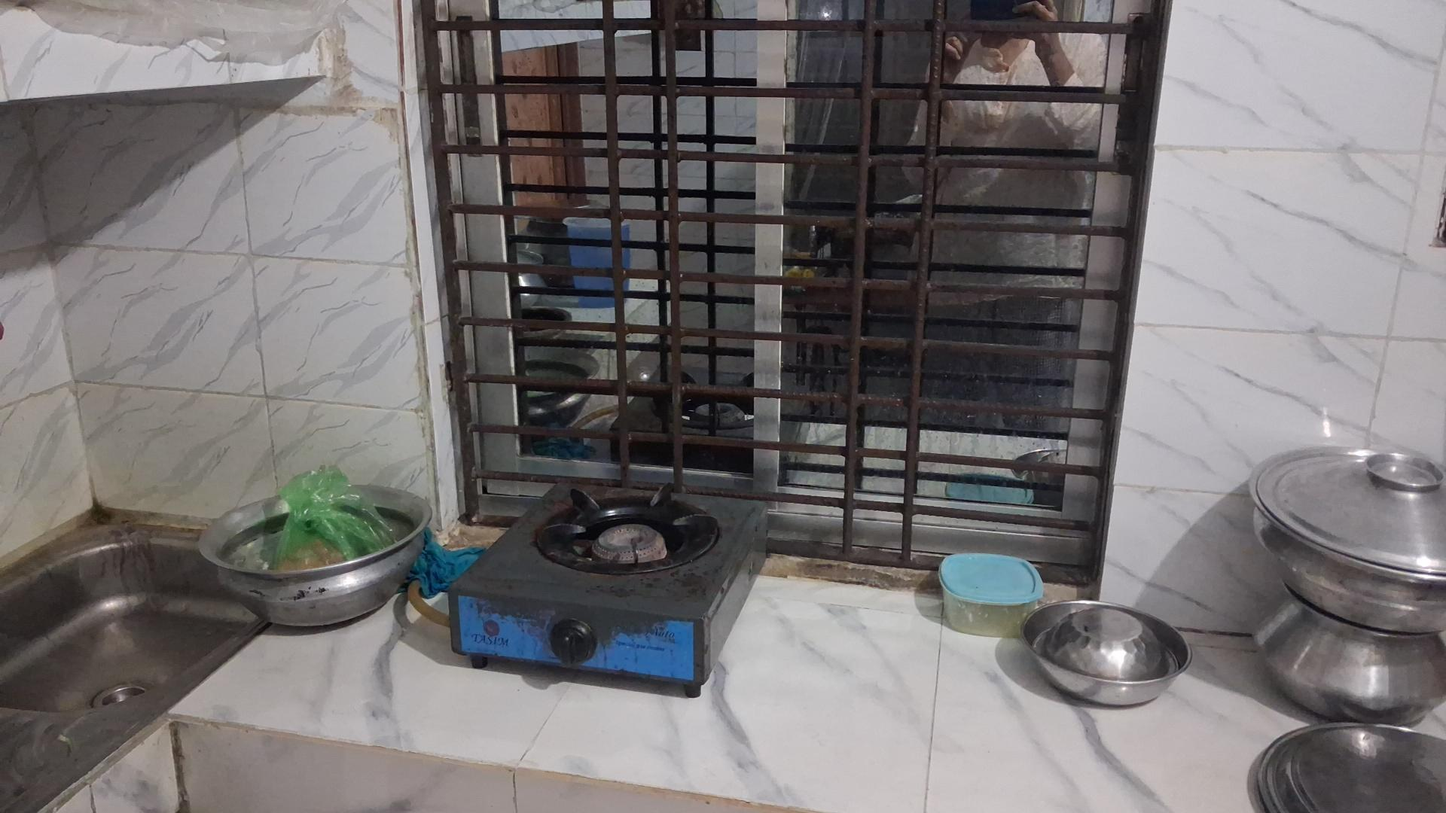Bowl: (1022, 599, 1191, 709)
Jar: (938, 553, 1045, 638)
Pot: (1245, 436, 1446, 628), (197, 478, 432, 629), (1257, 578, 1441, 723)
Window: (416, 0, 1161, 591)
